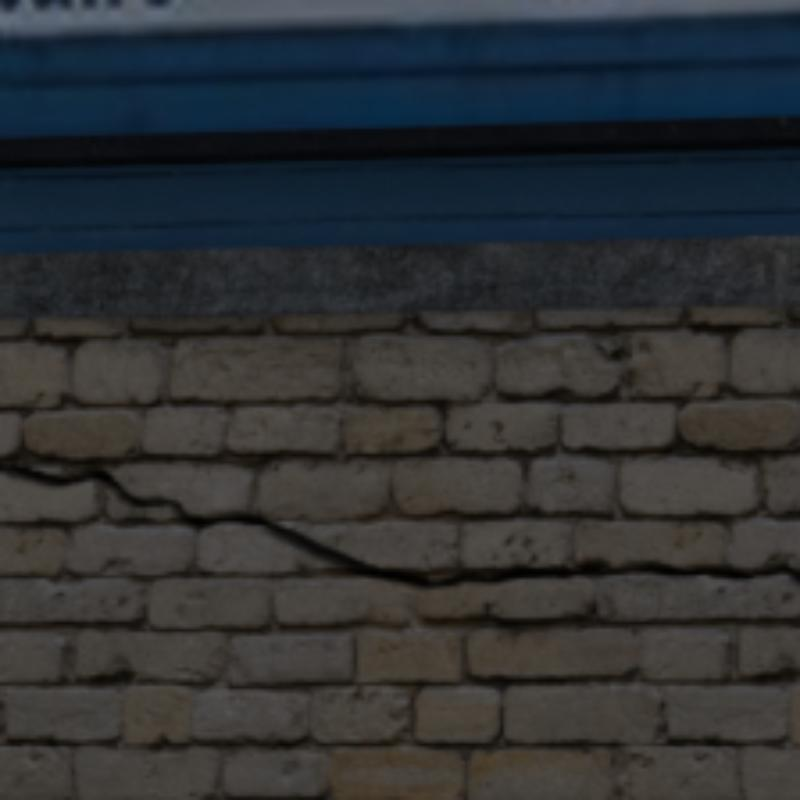pothole: (0, 461, 796, 586)
